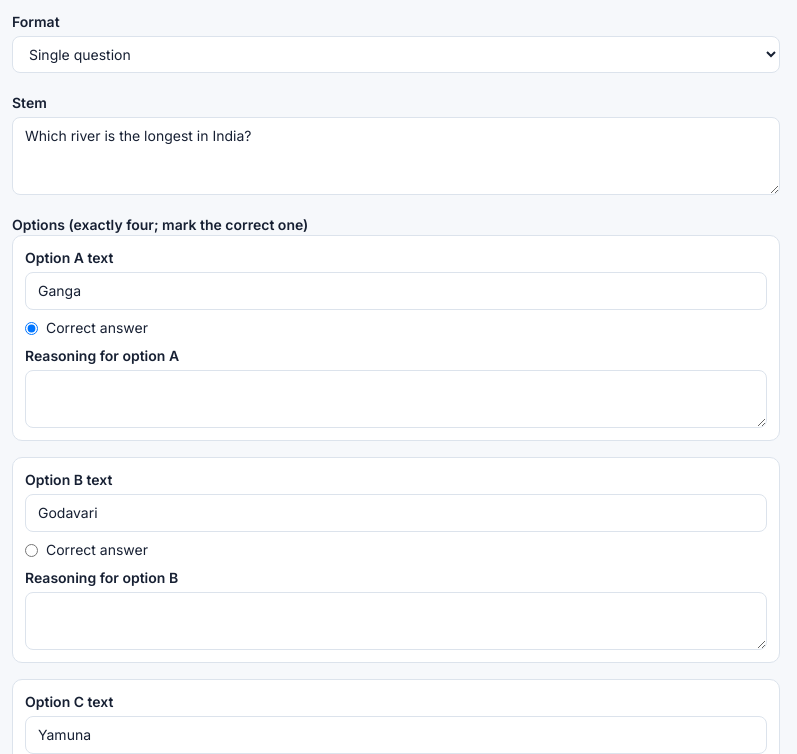
it: QuestionForm validation › maps a duplicate stem conflict to the stem field
This screenshot has width=797, height=754.
Replace the text in the text box labelled "Stem" with "Copied stem" at (396, 156), box [12,117,780,195]
(page scrolled)
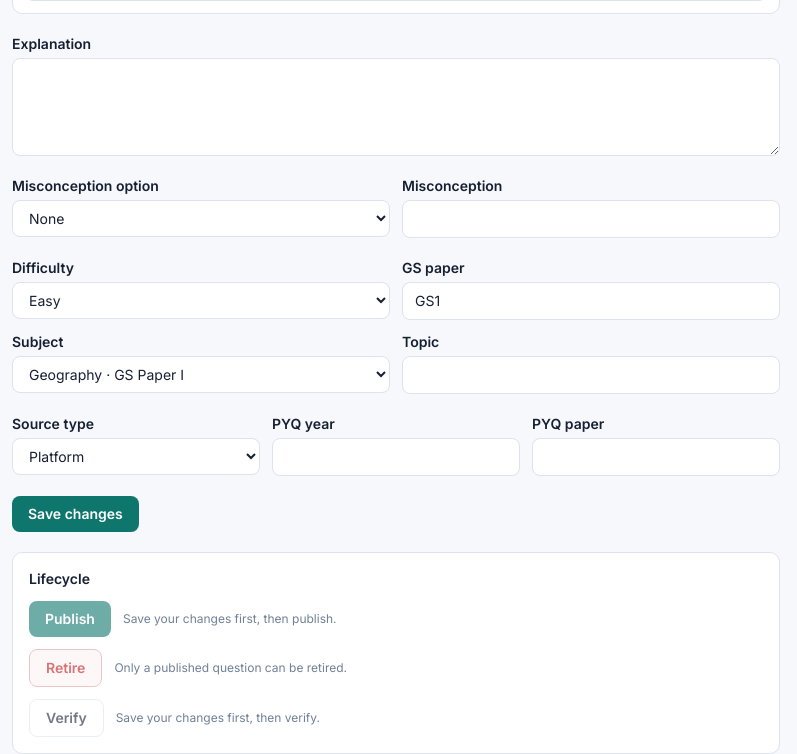
Click the button "Save changes" at (75, 514), box [12,496,139,532]
(page scrolled)
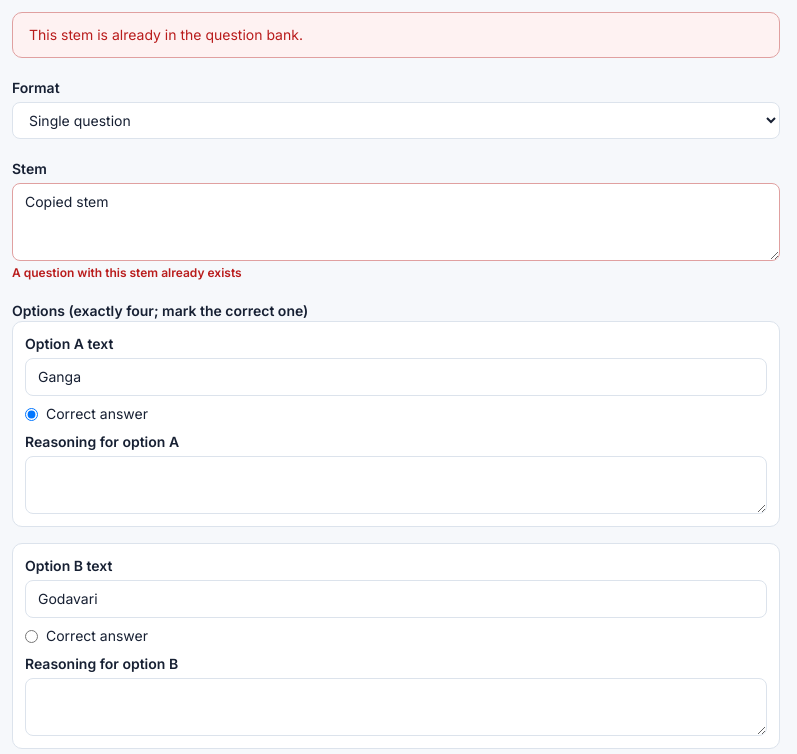
Check: the text "A question with this stem already exists" is shown, box [12,265,242,280]
